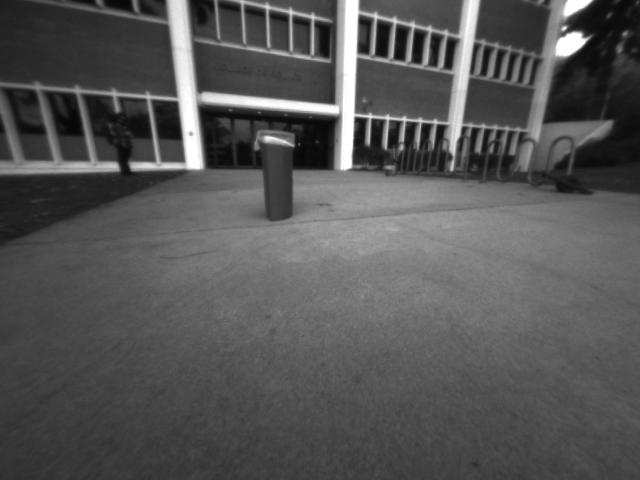trashcan_open: (250, 127, 297, 224)
